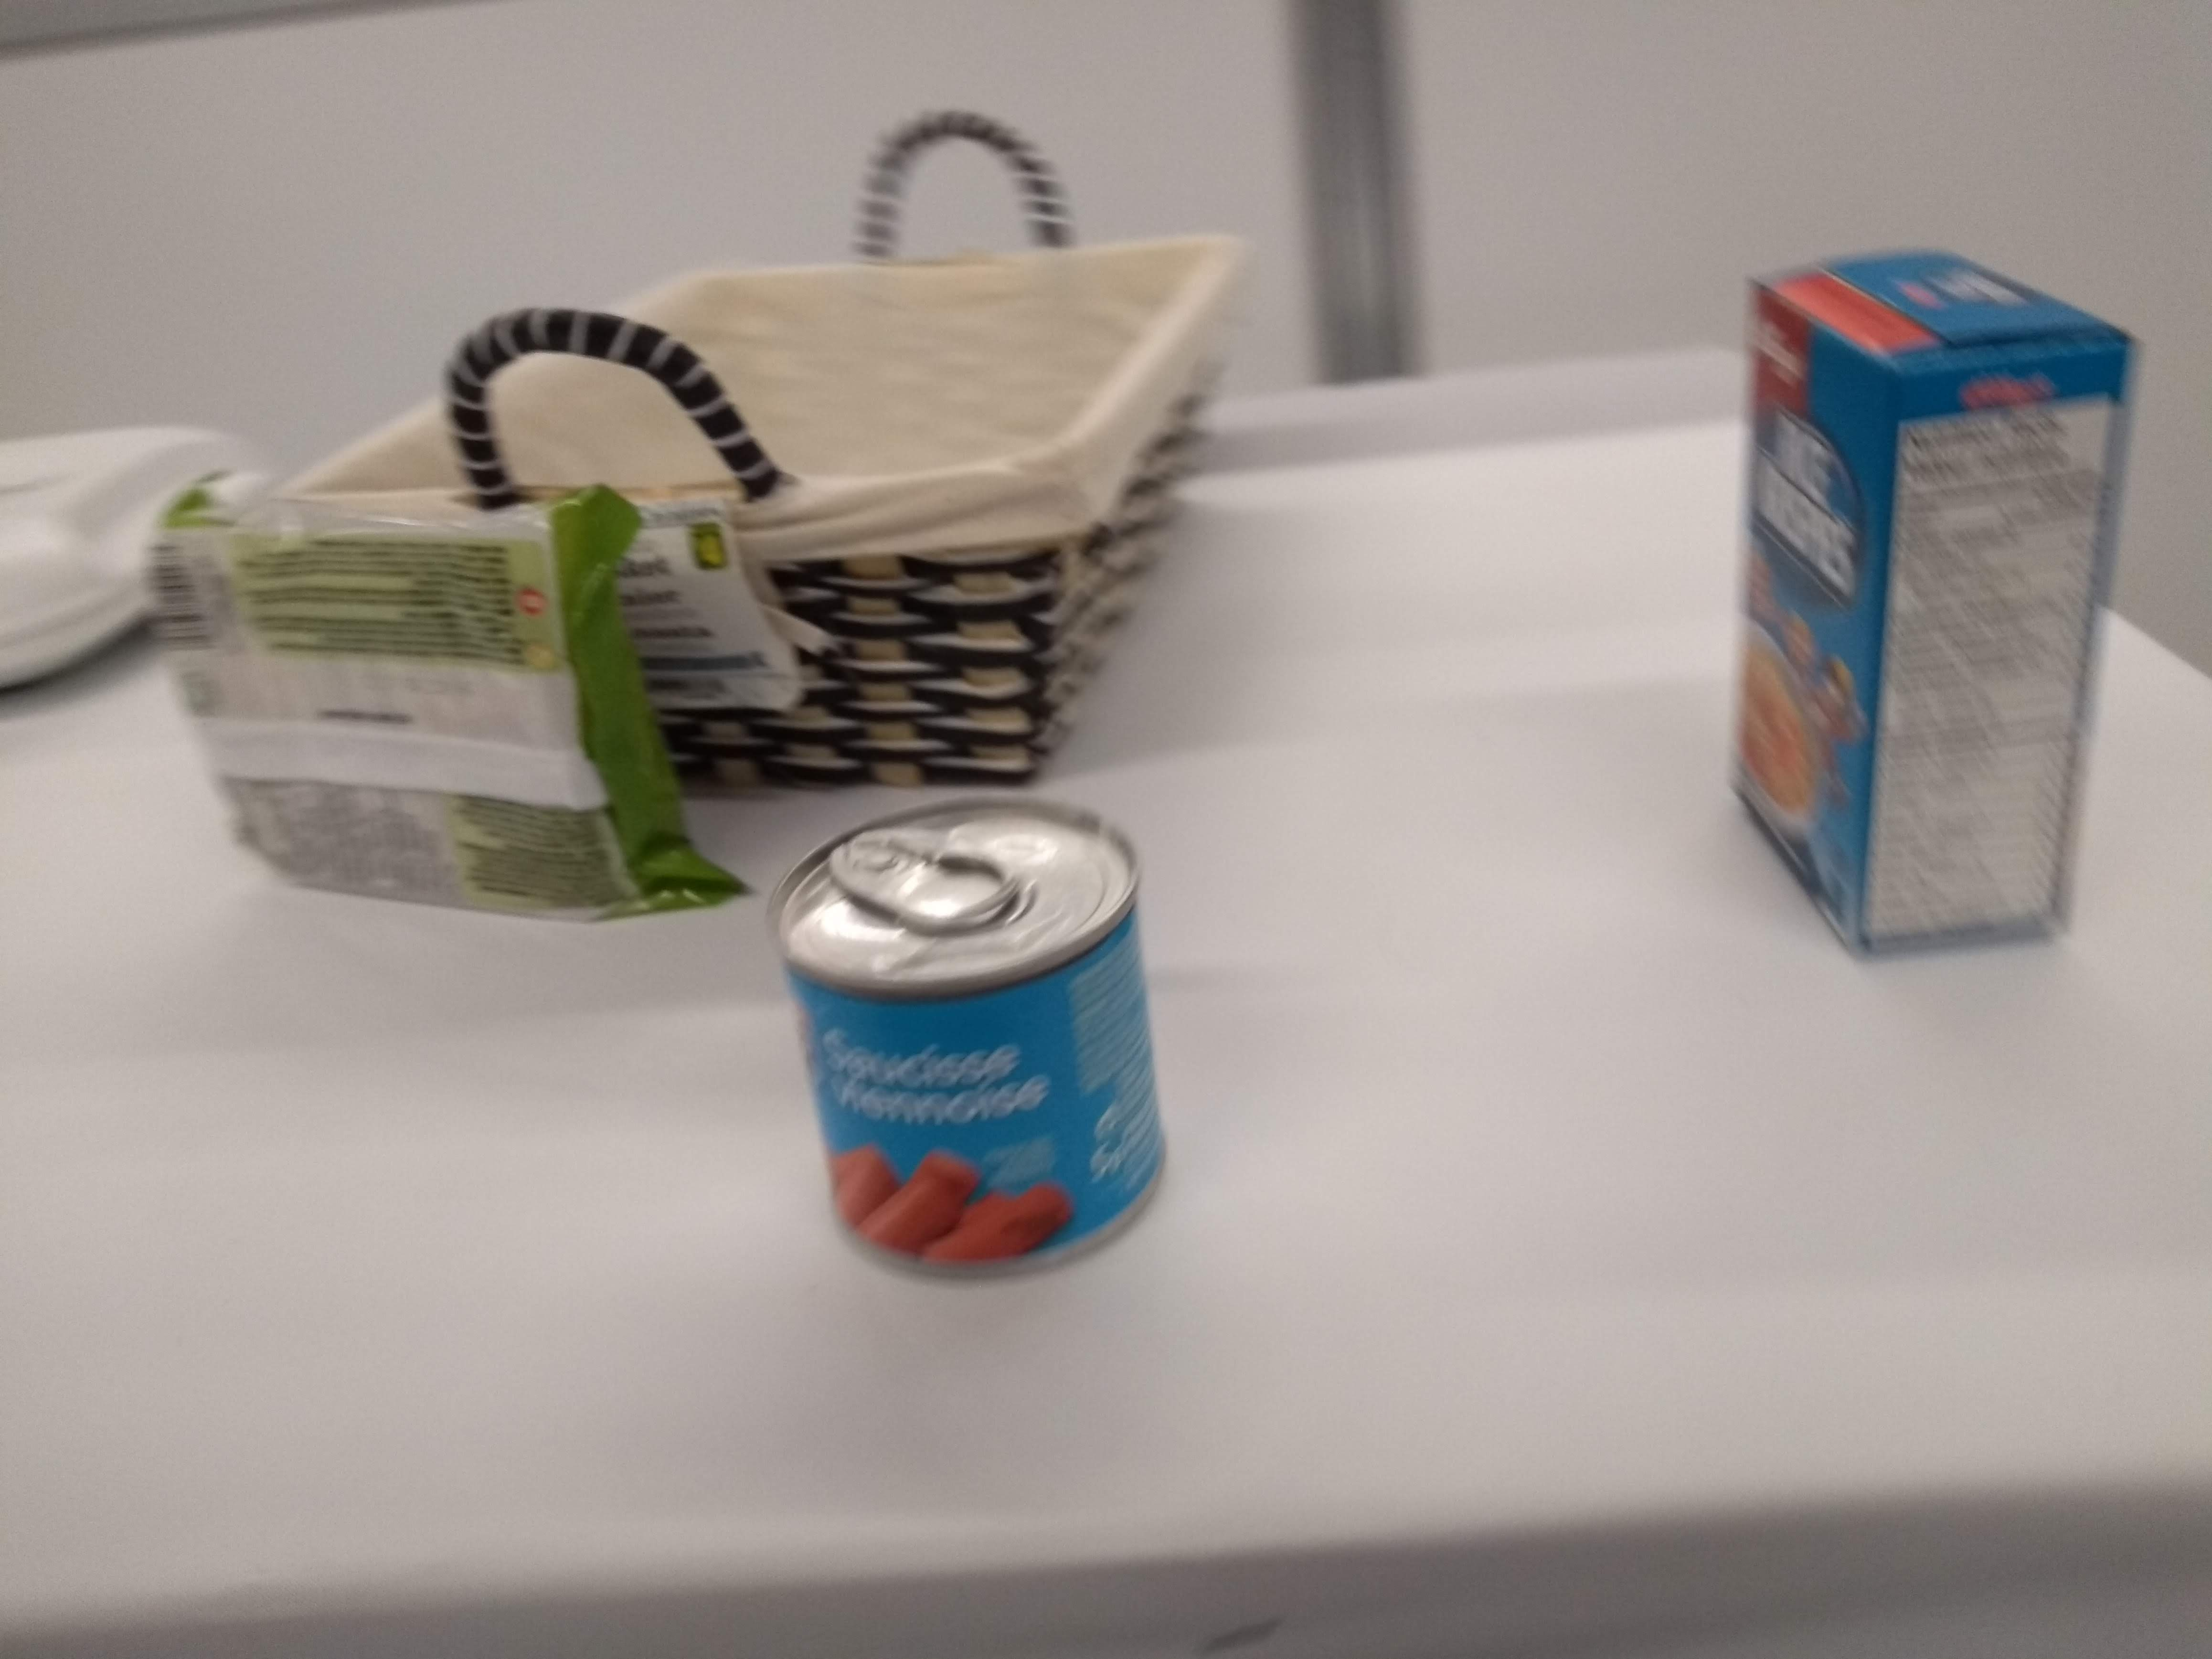cereal: (1716, 232, 2160, 971)
noodles: (131, 457, 766, 938)
sausages: (763, 786, 1184, 1305)
